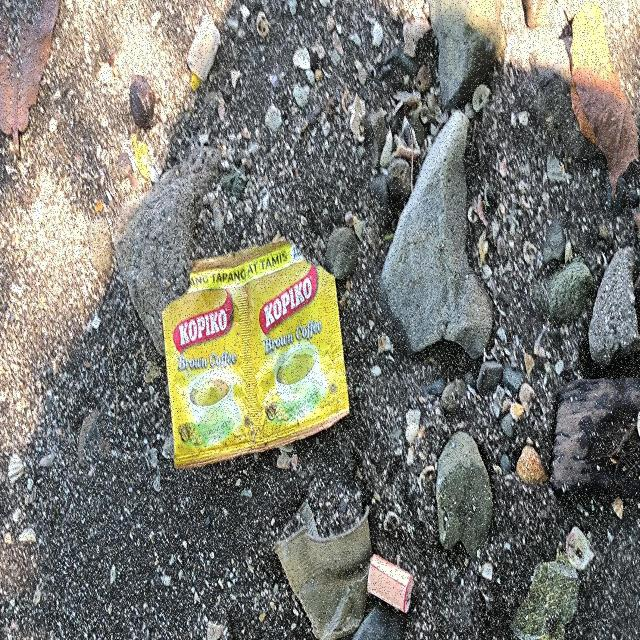plastic_waste: (162, 238, 353, 470), (273, 504, 372, 640)
